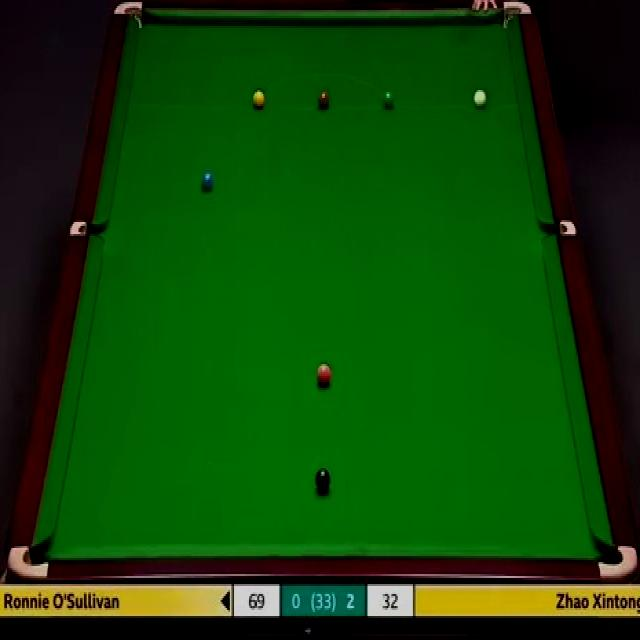black-ball: (314, 467, 331, 493)
blue-ball: (201, 171, 215, 192)
brown-ball: (316, 88, 331, 110)
green-ball: (380, 90, 395, 110)
pink-ball: (315, 363, 331, 386)
white-ball: (472, 87, 487, 109)
yellow-ball: (252, 88, 265, 109)
